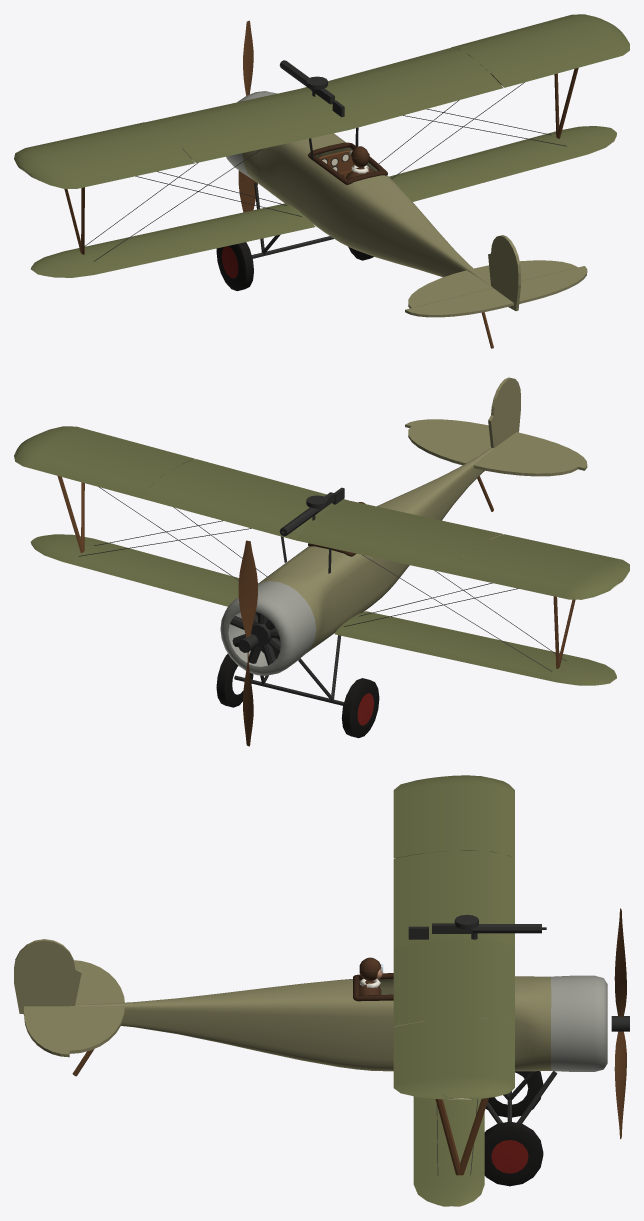
File: nieuport_11.glb
3 views of the same model, one above another, from view 1: azimuth 30°, elevation 25°; view 2: azimuth 150°, elevation 25°; view 3: azimuth 270°, elevation 25° (orthographic). The views are drawn at different scales.
Parts seen in each view (by area): view 1: Fuselage, Wing_Upper_L, Wing_Upper_R, Wing_Lower_L, Wing_Lower_R, Elevator, Aileron_L, Aileron_R, Rudder, Stabilizer_L, Wheels, Wires (+7 smaller); view 2: Wing_Upper_L, Wing_Upper_R, Fuselage, Wing_Lower_L, Wing_Lower_R, Cowling, Elevator, Wheels, PropBlades, Stabilizer_L, Stabilizer_R, Rudder (+7 smaller); view 3: Fuselage, Wing_Upper_R, Wing_Upper_L, Wing_Lower_R, Cowling, Wheels, Rudder, Aileron_R, Aileron_L, PropBlades, Stabilizer_R, Elevator (+5 smaller).
Part boxes in pixels (x1,y1,x2,y2): Fuselage: (243, 133, 490, 285); Wing_Upper_L: (14, 89, 349, 175); Wing_Upper_R: (300, 14, 620, 129); Wing_Lower_L: (31, 203, 315, 277); Wing_Lower_R: (389, 126, 616, 201); Elevator: (405, 266, 587, 317); Aileron_L: (28, 148, 194, 188); Aileron_R: (490, 30, 629, 87); Rudder: (488, 235, 520, 310); Stabilizer_L: (408, 270, 492, 308); Wheels: (216, 242, 373, 291); Wires: (79, 82, 566, 261); Wing_Upper_L: (296, 501, 620, 599); Wing_Upper_R: (14, 431, 349, 540); Fuselage: (258, 447, 493, 653); Wing_Lower_L: (335, 611, 616, 685); Wing_Lower_R: (30, 534, 238, 606); Cowling: (220, 581, 316, 675); Elevator: (405, 419, 587, 470); Wheels: (216, 653, 379, 738); PropBlades: (238, 540, 258, 746); Stabilizer_L: (473, 446, 577, 476); Stabilizer_R: (408, 426, 490, 465); Rudder: (488, 377, 520, 448); Fuselage: (75, 976, 551, 1071); Wing_Upper_R: (393, 939, 514, 1099); Wing_Upper_L: (393, 775, 514, 947); Wing_Lower_R: (413, 1096, 484, 1206); Cowling: (551, 975, 607, 1071); Wheels: (484, 1071, 543, 1186); Rudder: (14, 939, 81, 1014); Aileron_R: (393, 1021, 452, 1099); Aileron_L: (393, 777, 435, 858); PropBlades: (611, 908, 629, 1139); Stabilizer_R: (69, 1006, 124, 1053); Elevator: (24, 1006, 69, 1057).
Size of the model in its own units: 7.55 by 2.63 by 6.09.
